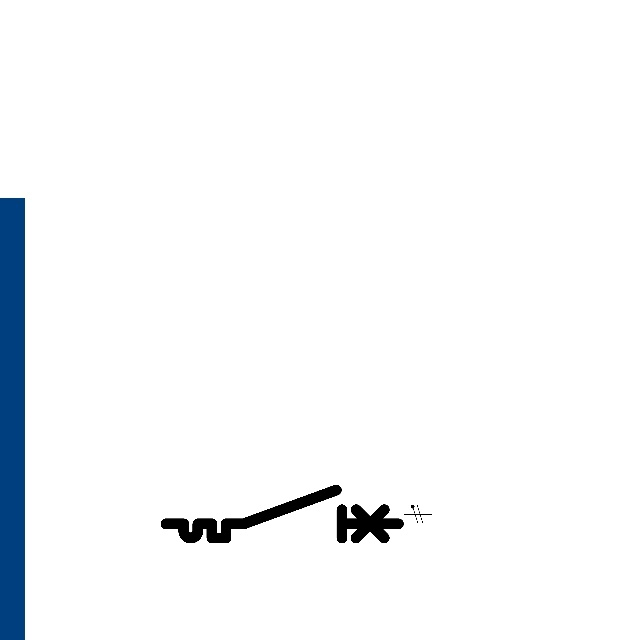interruptor_termomagnetico: (160, 484, 405, 544)
